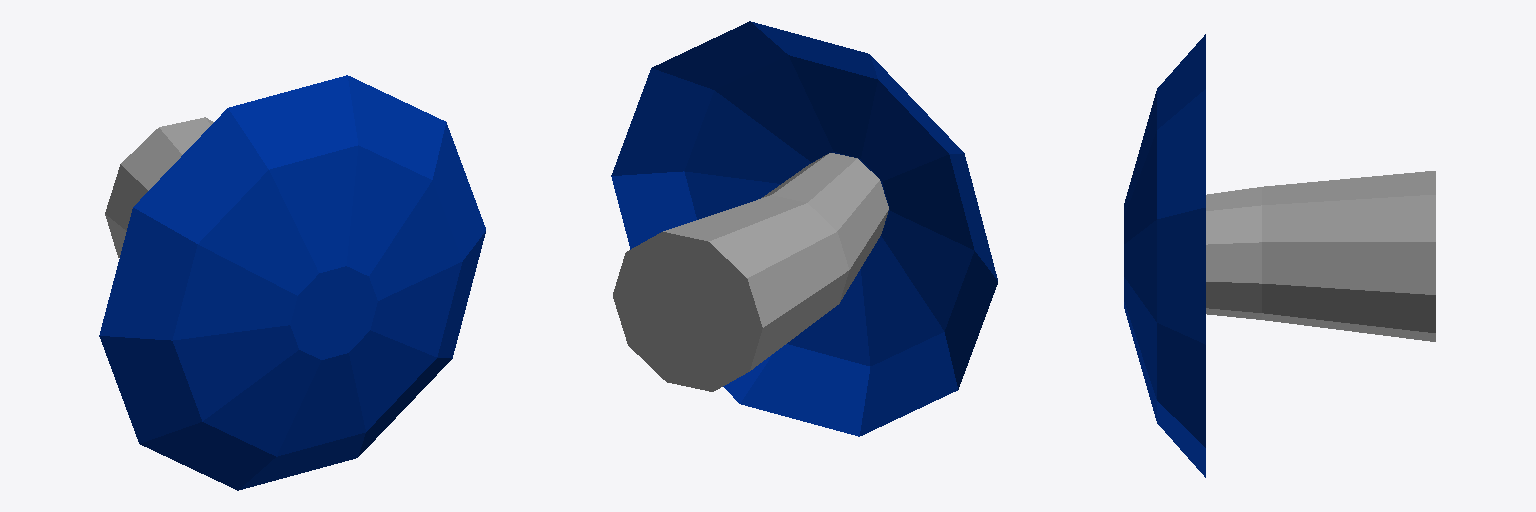
Rendered from mushroom1.obj.
The picture shows the model from 3 angles: view 1: azimuth 30°, elevation 25°; view 2: azimuth 150°, elevation 25°; view 3: azimuth 270°, elevation 25°; orthographic projection.
Parts seen in each view (by area): view 1: Cylinder.006; view 2: Cylinder.006; view 3: Cylinder.006.
Boxes of the visible parts, x1,y1,x2,y2 form: Cylinder.006: [99, 75, 485, 490]; Cylinder.006: [611, 21, 997, 436]; Cylinder.006: [1124, 34, 1435, 477].
Bounding box in the file's own units: 20.97 × 20.12 × 14.65.